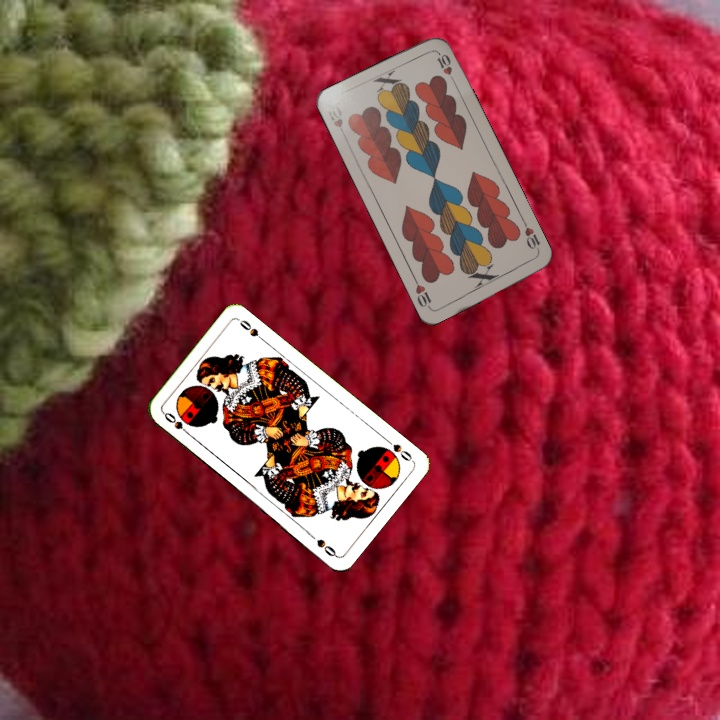H10: (519, 217, 543, 256), (328, 101, 345, 130)
SO: (160, 408, 194, 439), (381, 434, 416, 464)
